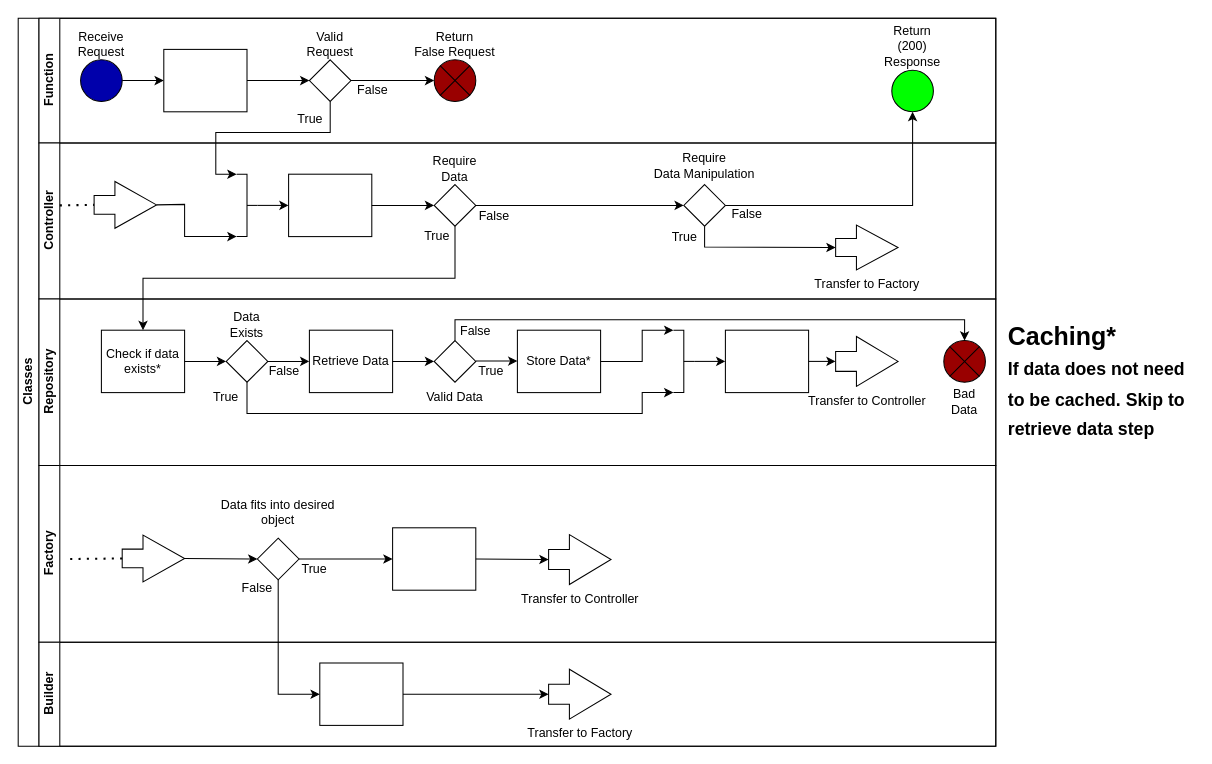
Image size: 1212x764. Some labels were removed from this diagram. Each missing label, with the centre of its shape:
Check Parameters: pixel 205 80
Manipulate Data: pixel 361 693
Put data into desired Object: pixel 434 558
Send Data: pixel 766 361
Send to corresponding classes: pixel 330 205
Transfer from Builder/Controller: pixel 153 558
Transfer from Repsitory/Factory: pixel 125 204
